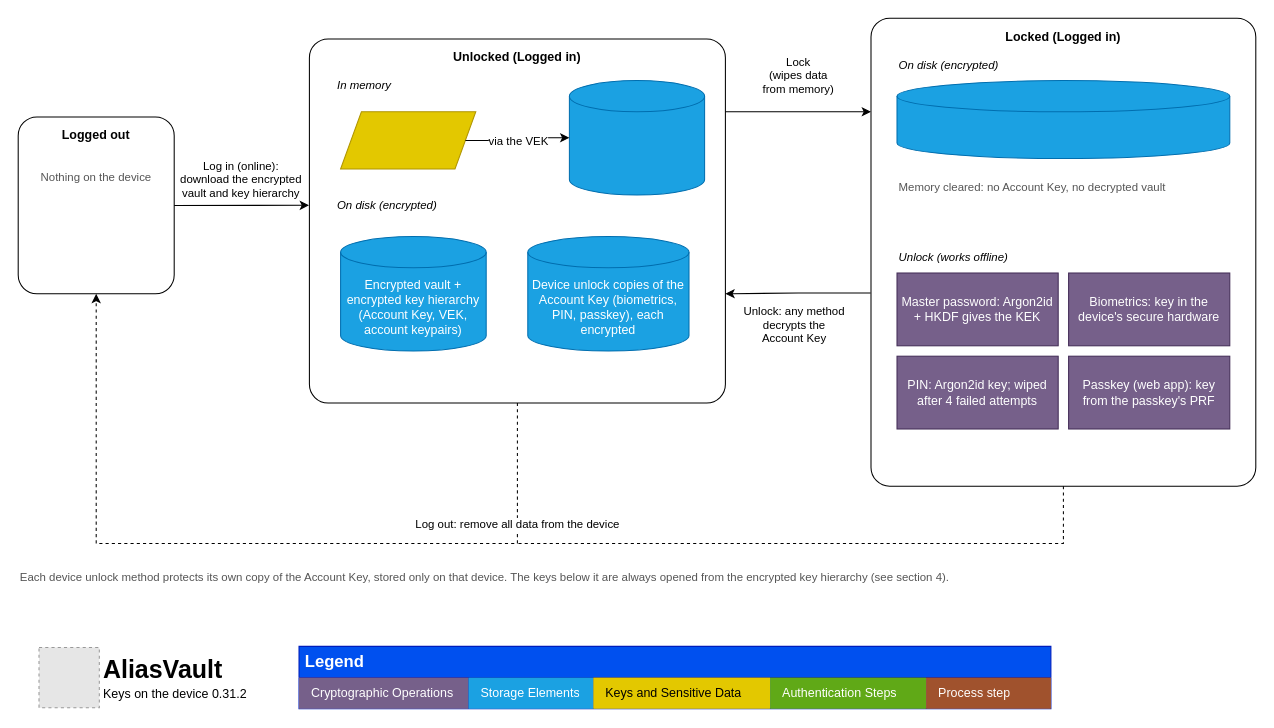
Image size: 1274x728. Some labels were removed from this diagram. Grey dashed boxes stand in for pictures. Here are the shapes that lost their labels. From the top down, the centre of each, then its label:
(636,137): Decrypted vault (SQLite in the Rust core)
(1063,119): Encrypted vault, key hierarchy, device unlock copies
(408,140): Account Key
